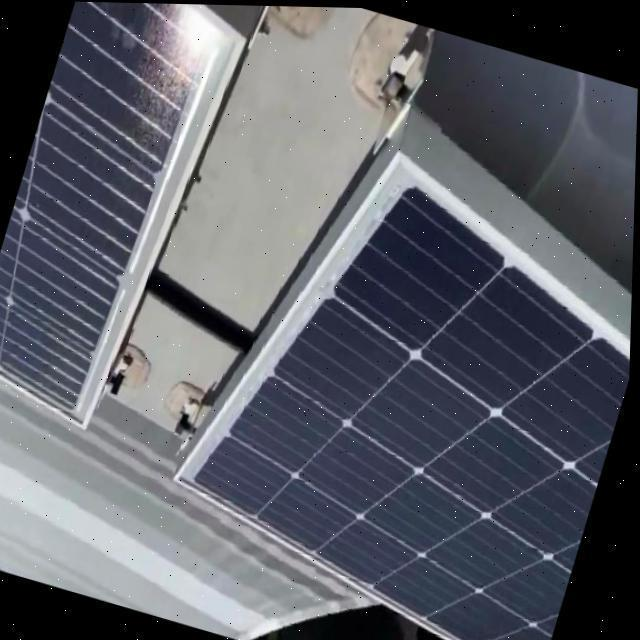Normal Solar Panel: (148, 112, 638, 640), (0, 0, 256, 436)
